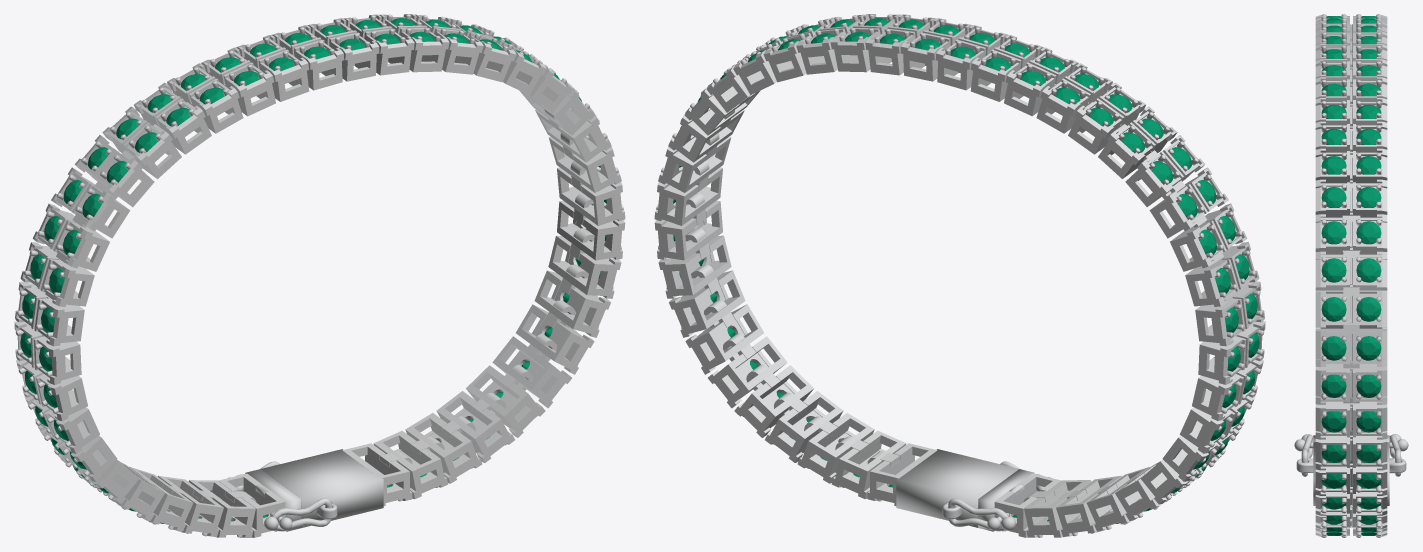
Rendered from emerald-bracelet.glb.
3 views of the same model, side by side, from view 1: azimuth 30°, elevation 25°; view 2: azimuth 150°, elevation 25°; view 3: azimuth 270°, elevation 25° (orthographic). The views are drawn at different scales.
Parts seen in each view (by area): view 1: object 2, RoundDiamondGG; view 2: object 2, RoundDiamondGG; view 3: object 2, RoundDiamondGG.
Boxes of the visible parts, <box> form: object 2: <box>14,14,625,537</box>; RoundDiamondGG: <box>20,18,606,523</box>; object 2: <box>654,14,1265,537</box>; RoundDiamondGG: <box>673,18,1259,523</box>; object 2: <box>1294,14,1408,537</box>; RoundDiamondGG: <box>1321,16,1381,535</box>.
Size of the model in its own units: 0.0741 by 0.0584 by 0.0137.
